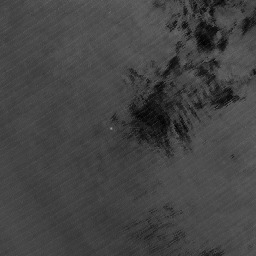Target: (107, 124, 114, 132)
